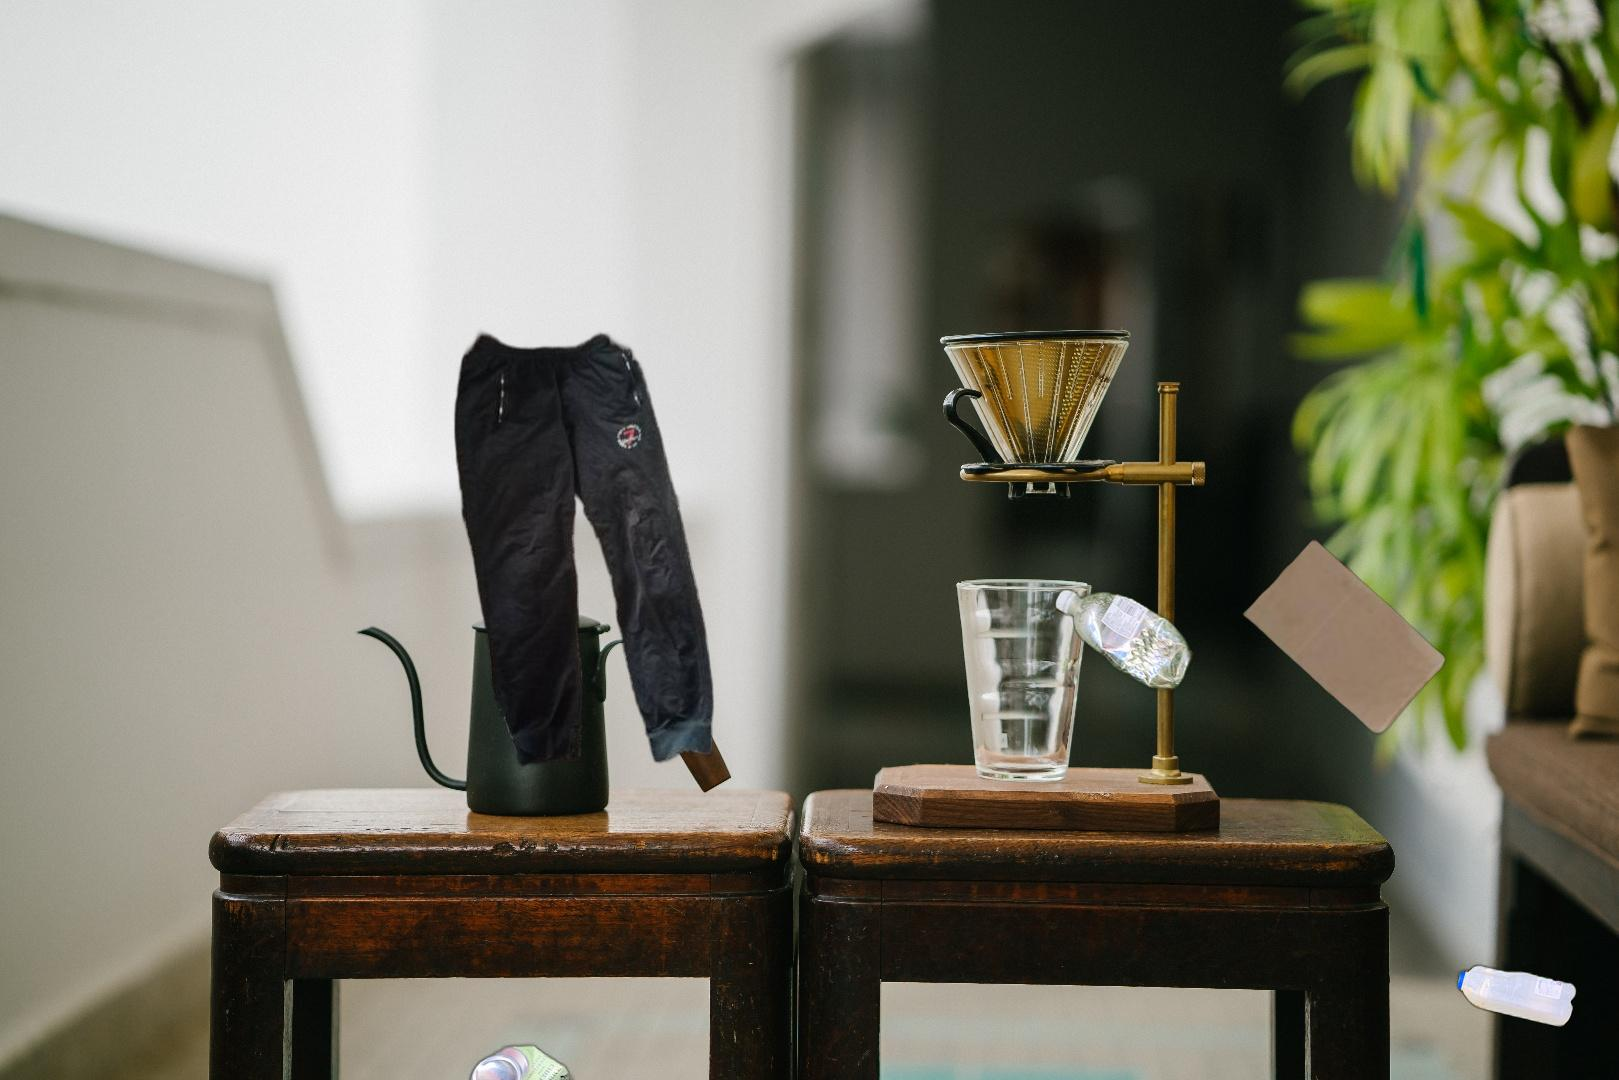clothes: (451, 327, 716, 771)
metal-cans: (162, 777, 674, 1080)
paper-bag: (1240, 535, 1459, 797)
plastic-bottles: (899, 583, 1197, 1023), (1453, 959, 1580, 1032)
trashbox-cardboard: (1284, 715, 1619, 1080)
